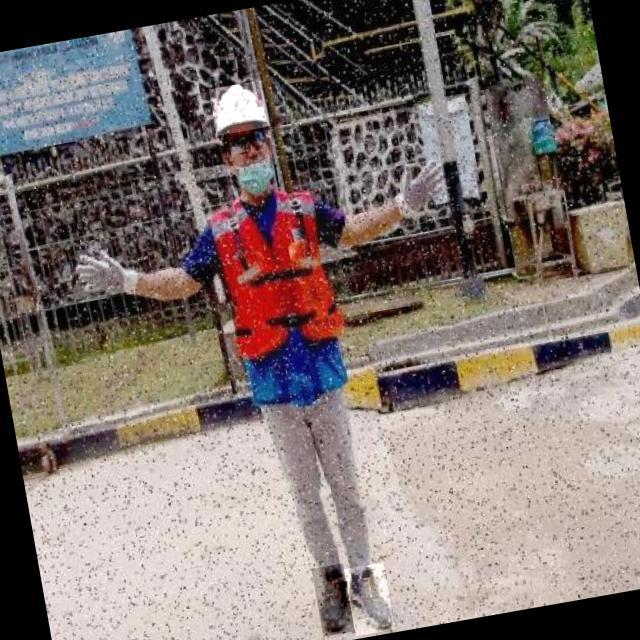Gloves: (69, 242, 150, 311), (393, 153, 447, 231)
Helmet: (209, 80, 271, 137)
Person: (63, 60, 463, 640)
Safety Boot: (344, 562, 395, 636), (311, 563, 355, 637)
Safety Vest: (199, 175, 366, 416)
